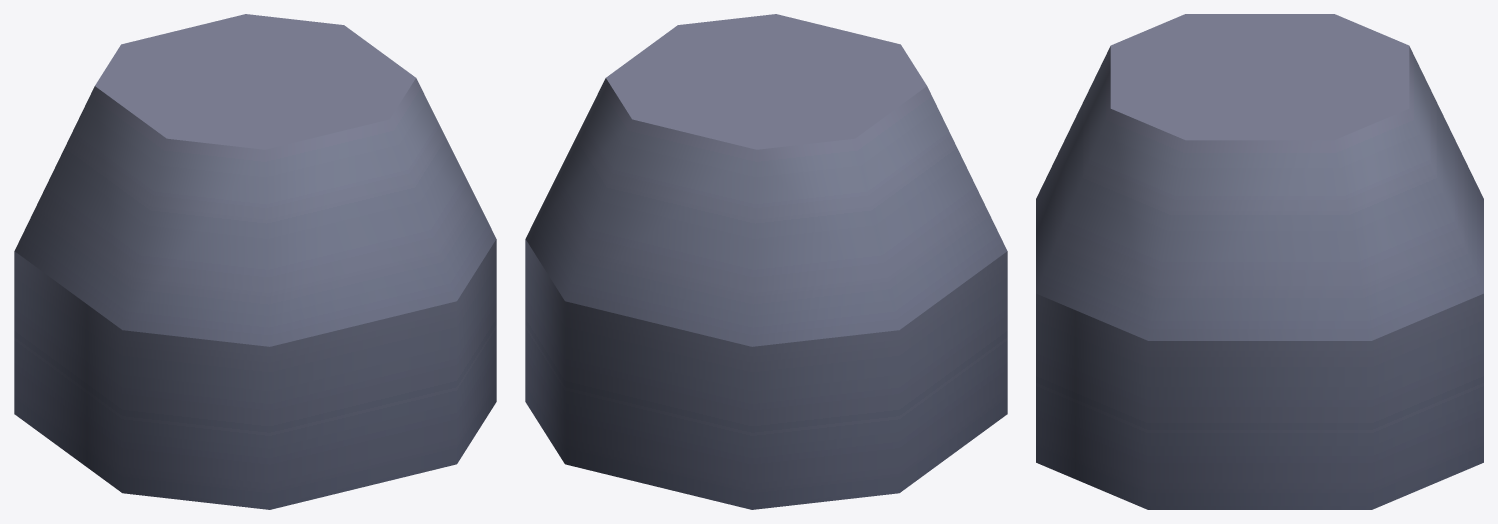
File: support-single-bottom.glb
The picture shows the model from 3 angles, left to right: view 1: azimuth 30°, elevation 25°; view 2: azimuth 150°, elevation 25°; view 3: azimuth 270°, elevation 25°; orthographic projection. The views are drawn at different scales.
Visible parts, largest first — view 1: support-single-bottom; view 2: support-single-bottom; view 3: support-single-bottom.
Boxes of the visible parts, x1,y1,x2,y2 form: support-single-bottom: [14, 14, 496, 509]; support-single-bottom: [525, 14, 1007, 509]; support-single-bottom: [1036, 14, 1483, 509].
Bounding box in the file's own units: 0.6 × 0.5 × 0.6.
Materials: 1 (1 with a texture image).
